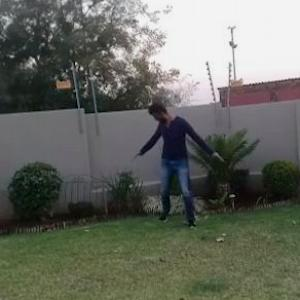land: (122, 99, 226, 234)
